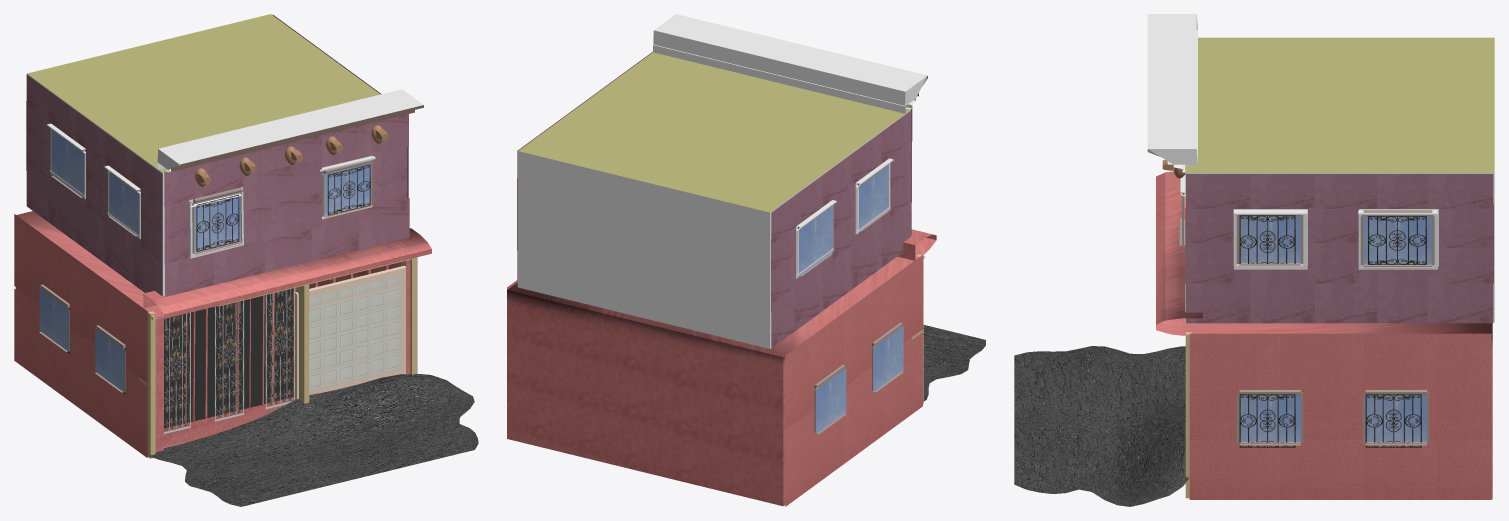
The picture shows the model from 3 angles, left to right: view 1: azimuth 30°, elevation 25°; view 2: azimuth 150°, elevation 25°; view 3: azimuth 270°, elevation 25°; orthographic projection. The views are drawn at different scales.
Visible parts, largest first — view 1: Cube_3, Cube.004_30, Plane.006_29, Screenshot 2026-09-02 142356.023_16, Screenshot 2026-09-02 142356.015_18, Cube.001_4, garage_door_panel_texture.005_21, Cube.002_5, Plane.007_31, Plane.001_7, Cube.003_22, Plane_6 (+9 smaller); view 2: Cube_3, Cube.002_5, Cube.004_30, Screenshot 2026-09-02 142356.015_18, Plane.006_29, Plane.005_12, Plane.004_11; view 3: Cube_3, Cube.004_30, Screenshot 2026-09-02 142356.001_19, Plane.006_29, Cube.002_5, Plane.003_10, Plane.002_9, window_grille_cutout.002_25, window_grille_cutout.003_26, Plane.007_31.
Part boxes in pixels (x1,y1,x2,y2): Cube_3: (14,211,431,457); Cube.004_30: (27,14,380,173); Plane.006_29: (147,374,478,506); Screenshot 2026-09-02 142356.023_16: (164,114,409,296); Screenshot 2026-09-02 142356.015_18: (26,75,162,295); Cube.001_4: (164,288,293,428); garage_door_panel_texture.005_21: (309,275,401,391); Cube.002_5: (26,74,423,295); Plane.007_31: (139,257,416,458); Plane.001_7: (192,187,242,255); Cube.003_22: (295,265,405,399); Plane_6: (322,159,373,218); Cube_3: (507,229,936,506); Cube.002_5: (518,14,927,348); Cube.004_30: (518,52,910,212); Screenshot 2026-09-02 142356.015_18: (771,110,911,348); Plane.006_29: (923,325,985,401); Plane.005_12: (798,205,832,276); Plane.004_11: (857,165,888,231); Cube_3: (1156,171,1492,499); Cube.004_30: (1185,37,1494,172); Screenshot 2026-09-02 142356.001_19: (1185,174,1493,323); Plane.006_29: (1014,346,1189,506); Cube.002_5: (1147,14,1494,322); Plane.003_10: (1360,210,1434,268); Plane.002_9: (1236,215,1303,266); window_grille_cutout.002_25: (1368,216,1426,264); window_grille_cutout.003_26: (1239,215,1295,263); Plane.007_31: (1185,332,1191,498).
Bounding box in the file's own units: 4.39 × 4.21 × 5.32.
Materials: 16 (8 with a texture image).
